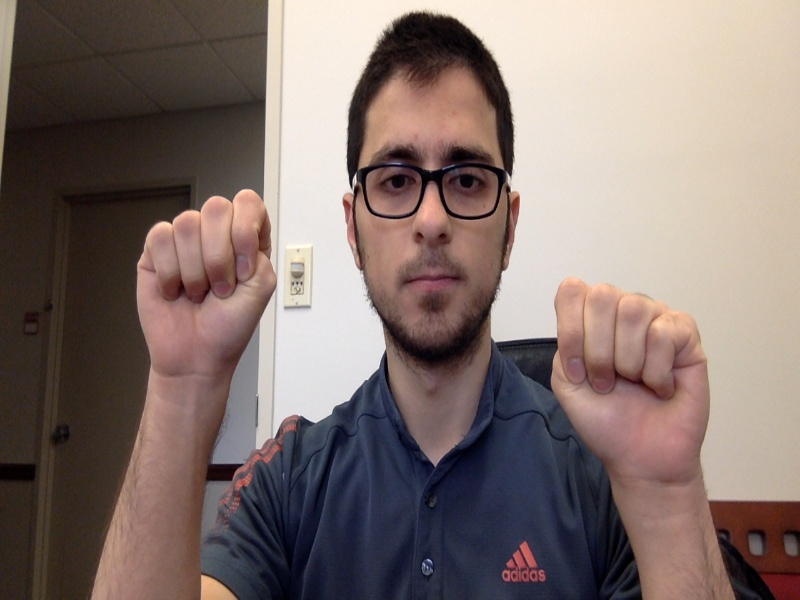0-hand: (551, 279, 709, 487), (136, 190, 277, 376)
